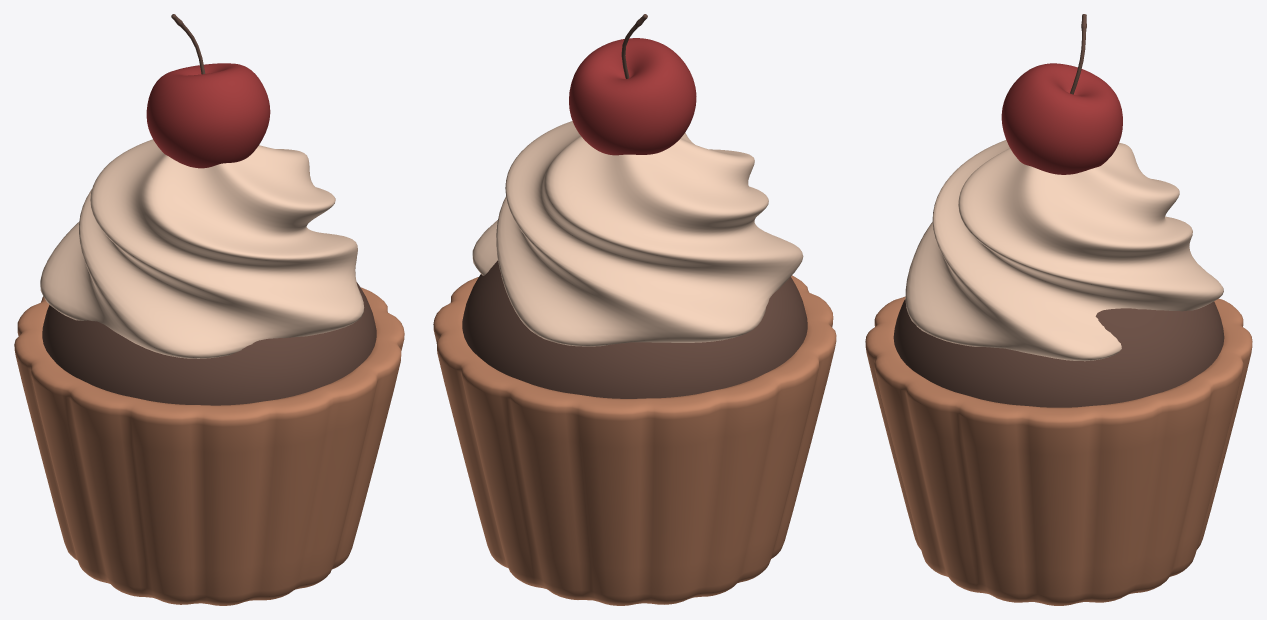
The model's file is chocolate_cupcake.glb.
The picture shows the model from 3 angles, left to right: view 1: azimuth 30°, elevation 25°; view 2: azimuth 150°, elevation 25°; view 3: azimuth 270°, elevation 25°; orthographic projection. The views are drawn at different scales.
Parts seen in each view (by area): view 1: 0016_02_0, 0016_01_0, 0016_03-coffee_0, 0016_09-cherry_0; view 2: 0016_02_0, 0016_01_0, 0016_03-coffee_0, 0016_09-cherry_0; view 3: 0016_02_0, 0016_01_0, 0016_03-coffee_0, 0016_09-cherry_0.
Part boxes in pixels (left/top/right/bottom): 0016_02_0: left=14, top=287, right=404, bottom=605; 0016_01_0: left=40, top=139, right=364, bottom=358; 0016_03-coffee_0: left=42, top=14, right=376, bottom=405; 0016_09-cherry_0: left=146, top=63, right=270, bottom=168; 0016_02_0: left=433, top=275, right=836, bottom=605; 0016_01_0: left=472, top=121, right=803, bottom=346; 0016_03-coffee_0: left=462, top=14, right=807, bottom=398; 0016_09-cherry_0: left=569, top=38, right=696, bottom=155; 0016_02_0: left=865, top=296, right=1252, bottom=605; 0016_01_0: left=905, top=140, right=1223, bottom=361; 0016_03-coffee_0: left=893, top=14, right=1224, bottom=407; 0016_09-cherry_0: left=1001, top=63, right=1122, bottom=174.
Size of the model in its own units: 1.69 by 2.55 by 1.69.
